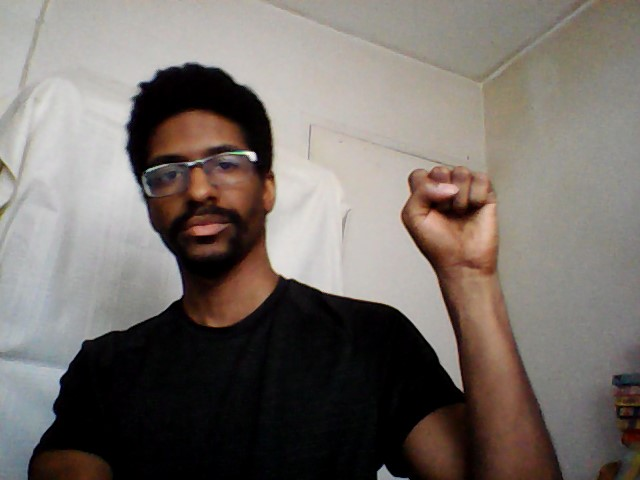s: (397, 160, 503, 275)
